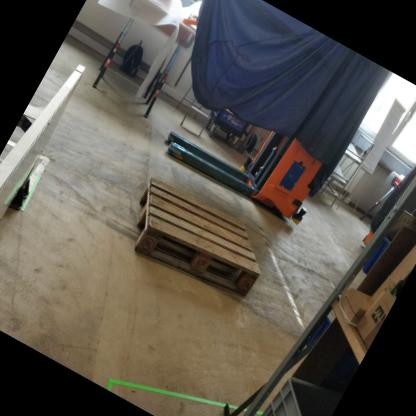BoxFace: (131, 176, 264, 301)
